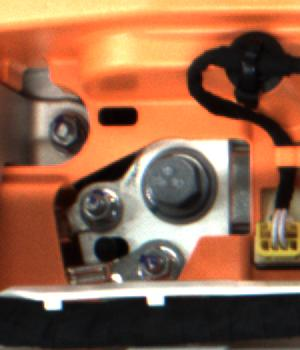nut_b: (140, 149, 214, 226)
screw_s: (131, 245, 176, 284), (81, 187, 123, 223), (46, 115, 85, 153)
